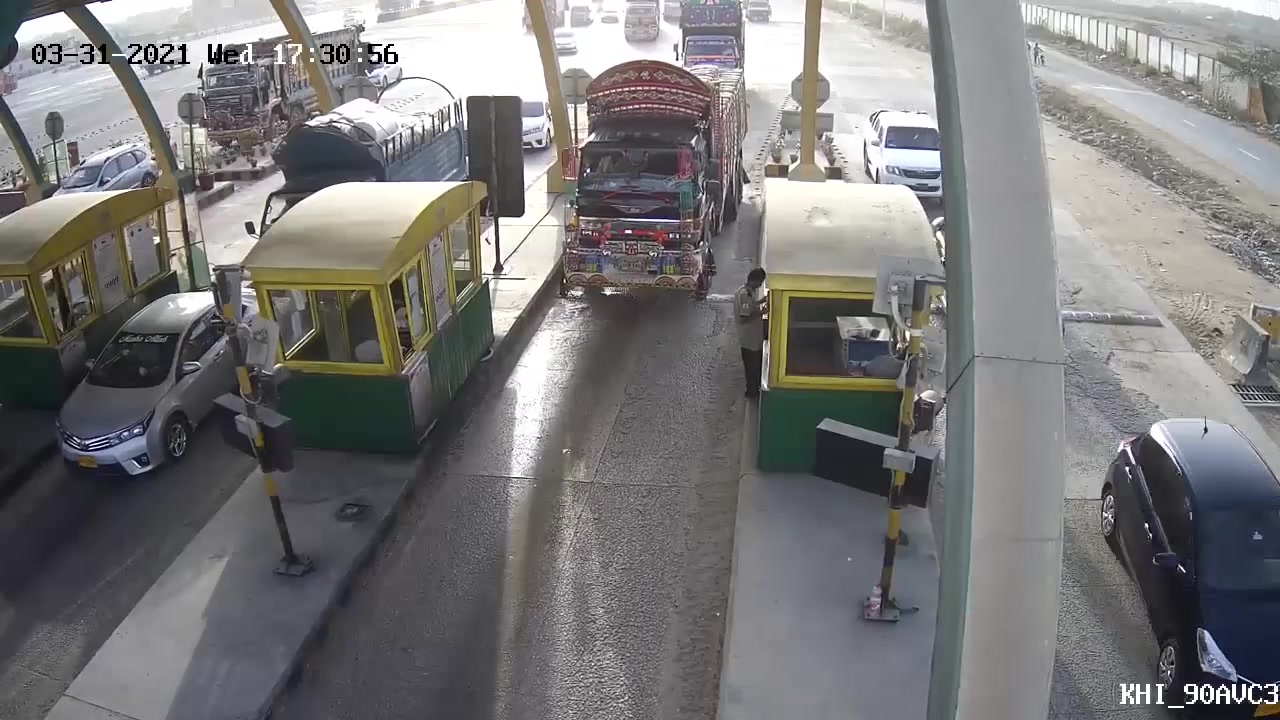F5: (545, 57, 759, 312)
